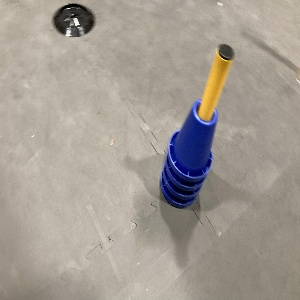Blue_4: (156, 102, 217, 205)
